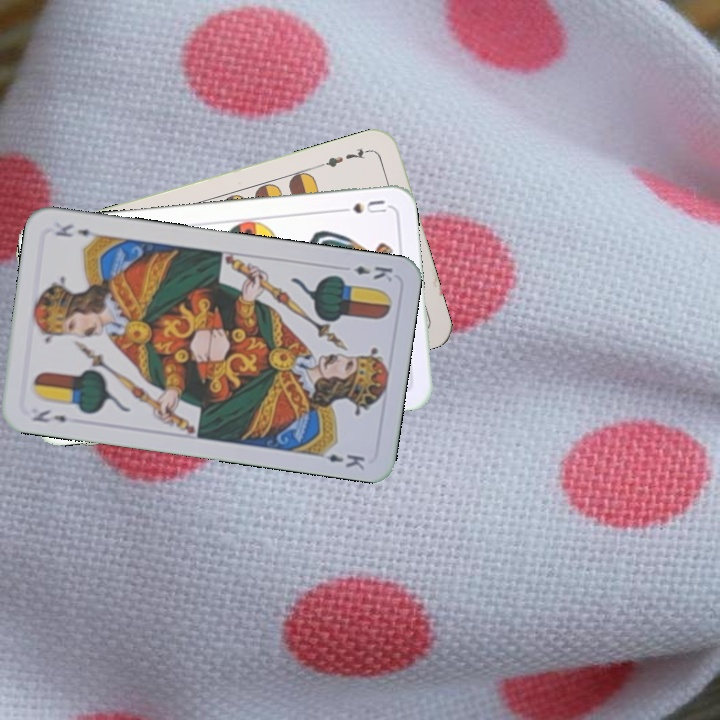E7: (315, 144, 374, 170)
EK: (350, 262, 395, 284), (28, 405, 70, 425)
SU: (331, 196, 389, 217)
